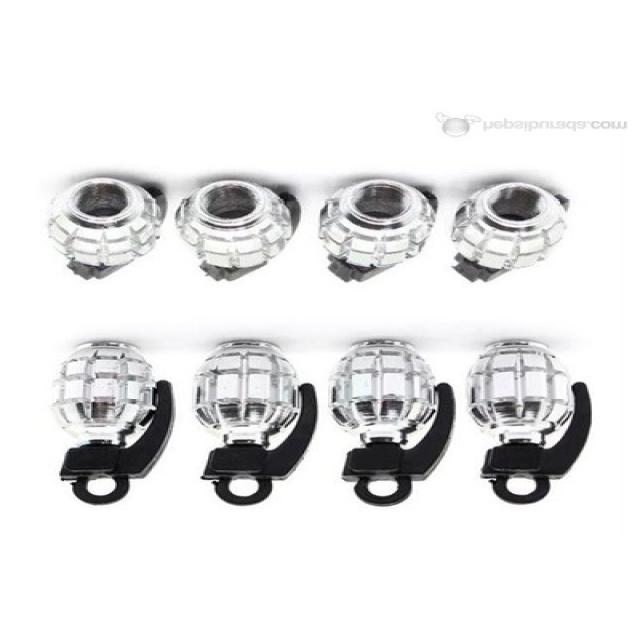grenade: (462, 331, 596, 508), (439, 182, 591, 290)
